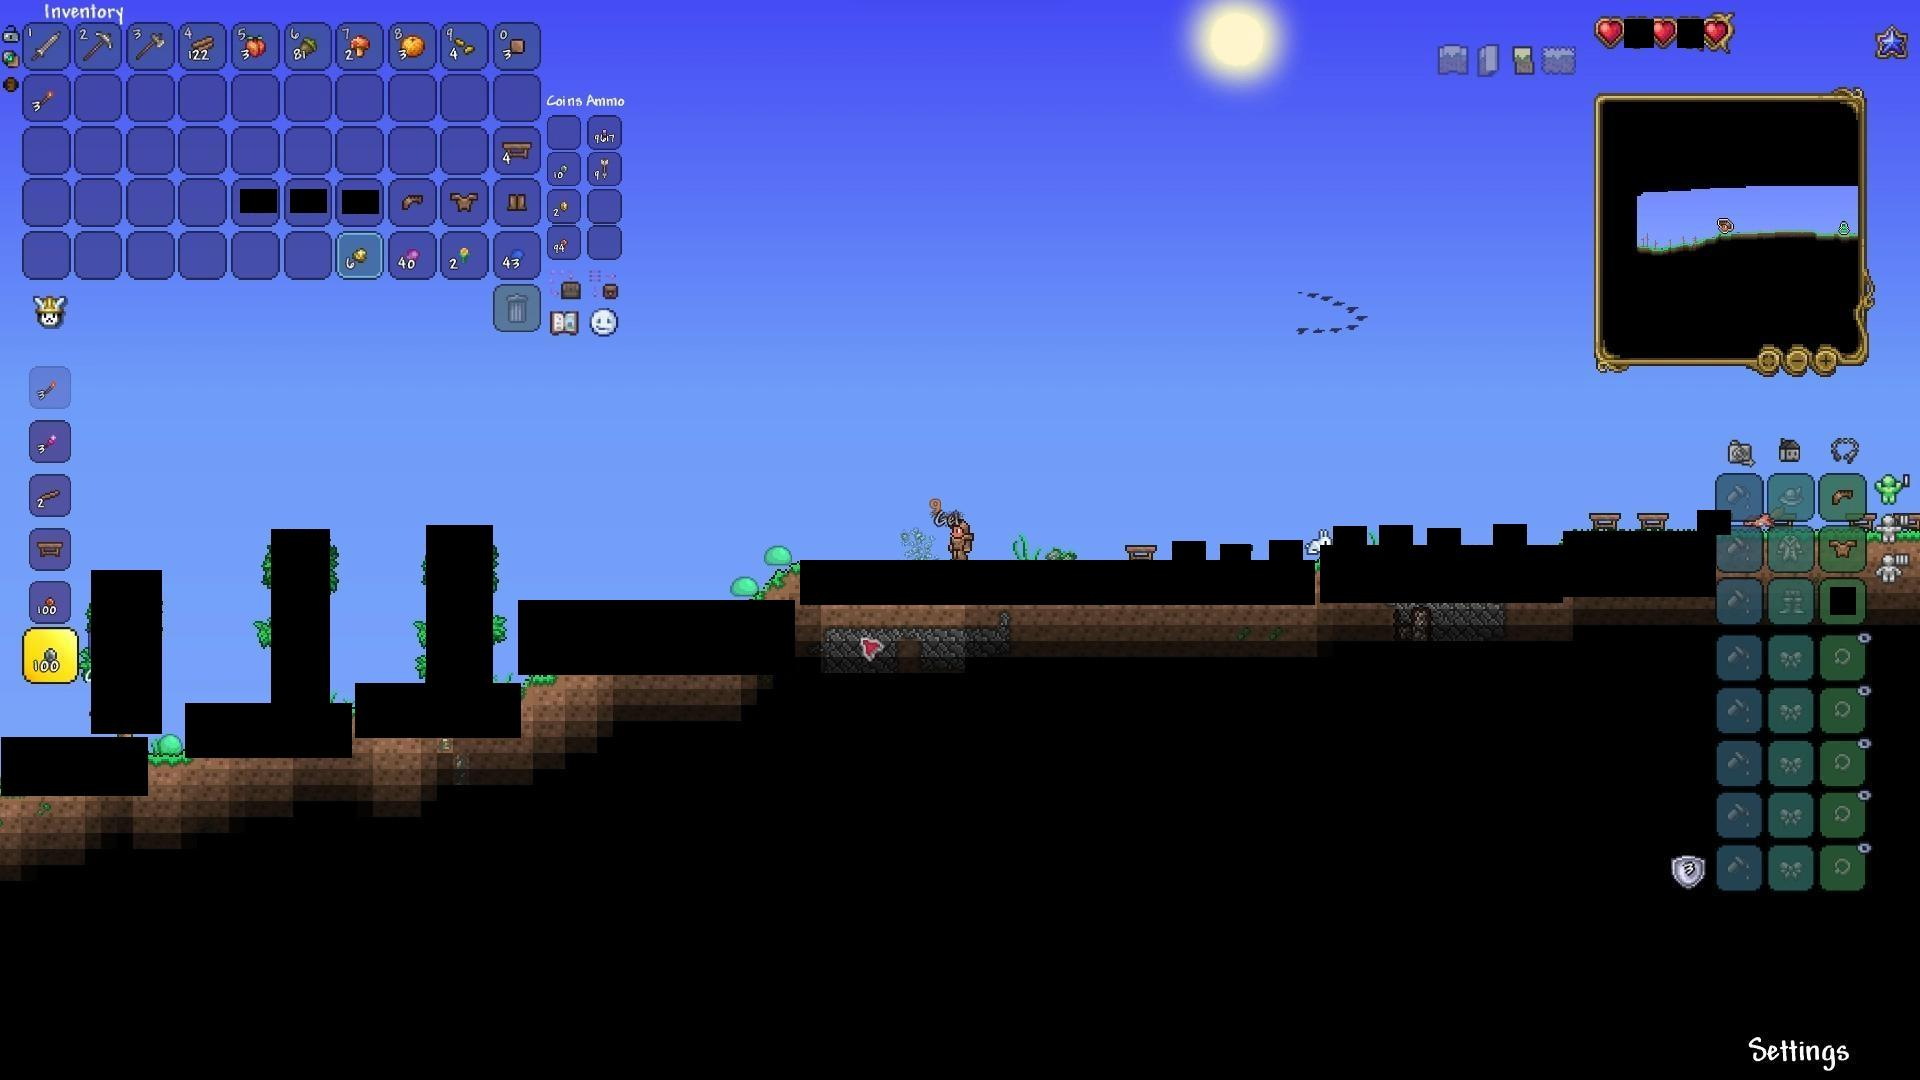breastplate: (1832, 538, 1859, 559), (448, 190, 477, 210)
heart: (1650, 18, 1677, 47), (1598, 16, 1626, 44), (1705, 18, 1730, 45)
helmet: (1829, 483, 1857, 509), (400, 190, 429, 215)
legs: (505, 186, 530, 214)
slime: (764, 541, 795, 571), (731, 574, 762, 603), (154, 731, 186, 758)
wood: (189, 33, 218, 61)
workbench: (1589, 512, 1625, 535), (500, 138, 535, 162), (1635, 505, 1668, 530), (33, 535, 66, 560), (1126, 542, 1159, 566)
